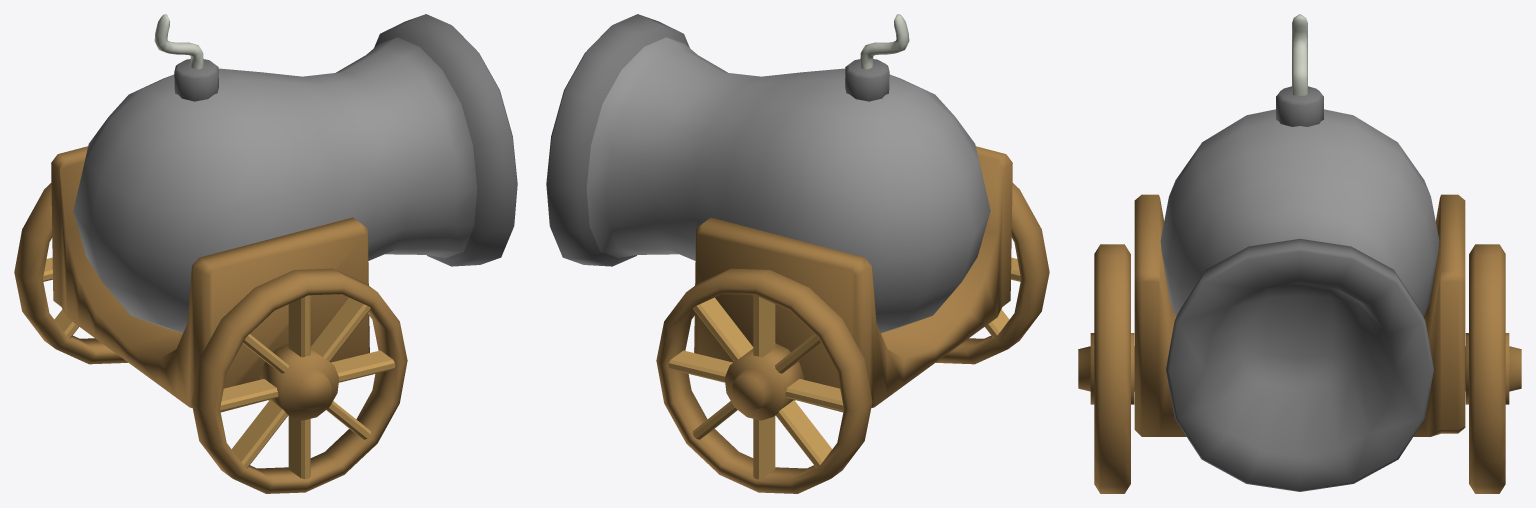
The model's file is Cannon.glb.
3 renders of one model, left to right at view 1: azimuth 30°, elevation 25°; view 2: azimuth 150°, elevation 25°; view 3: azimuth 270°, elevation 25°, orthographic. The views are drawn at different scales.
Parts seen in each view (by area): view 1: Cannon, Cannon_Wheels; view 2: Cannon, Cannon_Wheels; view 3: Cannon, Cannon_Wheels.
Boxes of the visible parts, <box> form: Cannon: <box>51,14,517,412</box>; Cannon_Wheels: <box>14,183,407,493</box>; Cannon: <box>546,14,1012,412</box>; Cannon_Wheels: <box>656,183,1049,493</box>; Cannon: <box>1134,14,1465,491</box>; Cannon_Wheels: <box>1078,244,1521,493</box>.
Bounding box in the file's own units: 3.37 × 3.67 × 3.32.
